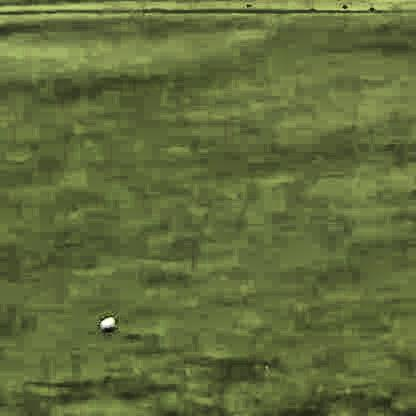golfball: (97, 313, 113, 329)
